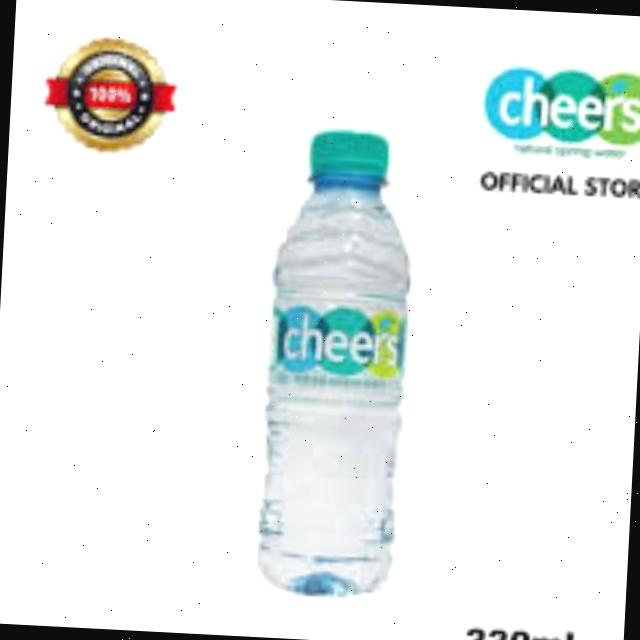trash: (251, 122, 423, 604)
